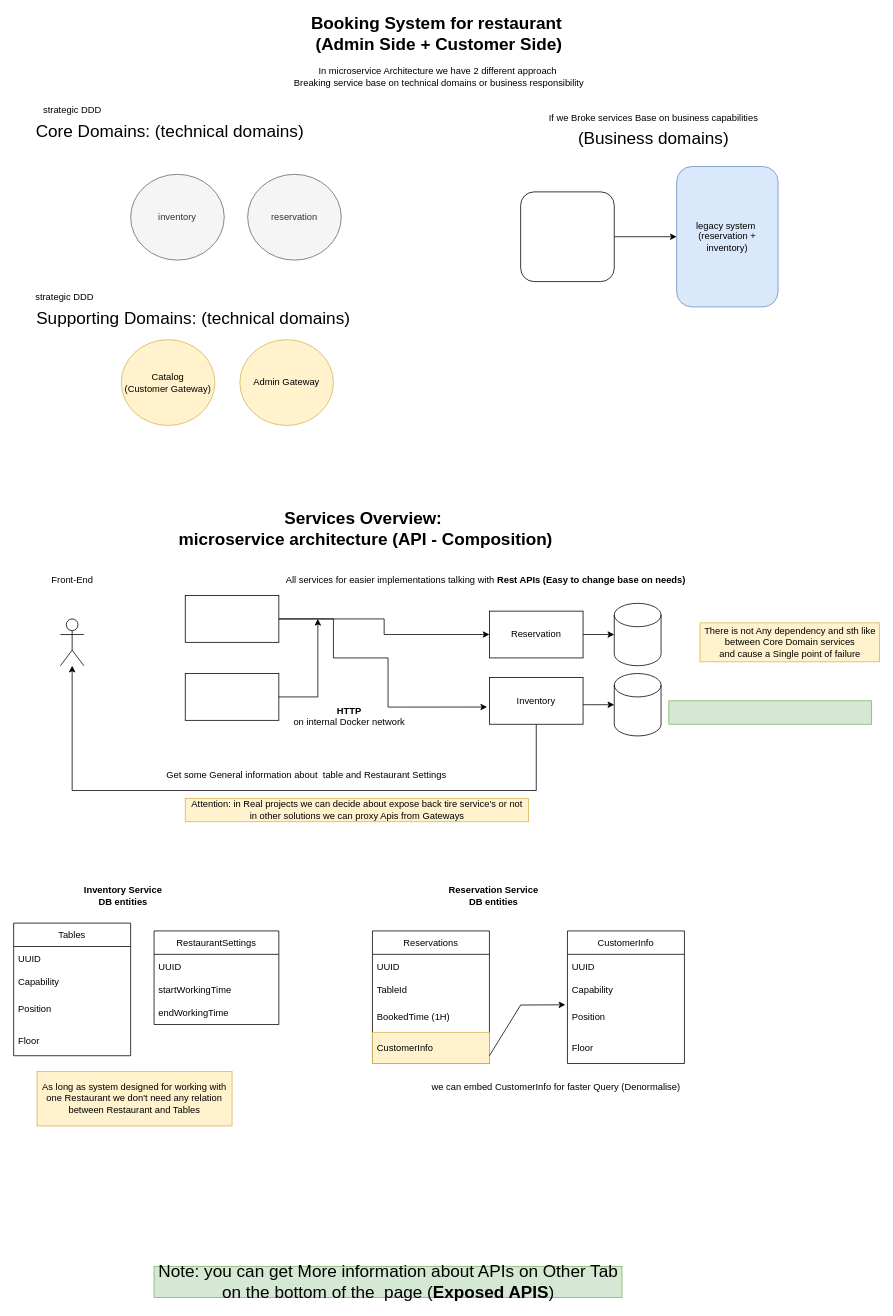
This 893x1316 diagram has some shape labels left out. Here are the shapes that lost their labels. From the top down, the centre of each, then its label:
the point at 567,236: admin/customer Actions
the point at 231,618: Admin-gateway
the point at 637,634: Database
the point at 231,696: Catalog (Customer-gateway)
the point at 637,704: DB
the point at 770,712: If there was we can handle it with some another solutions like bounded context
